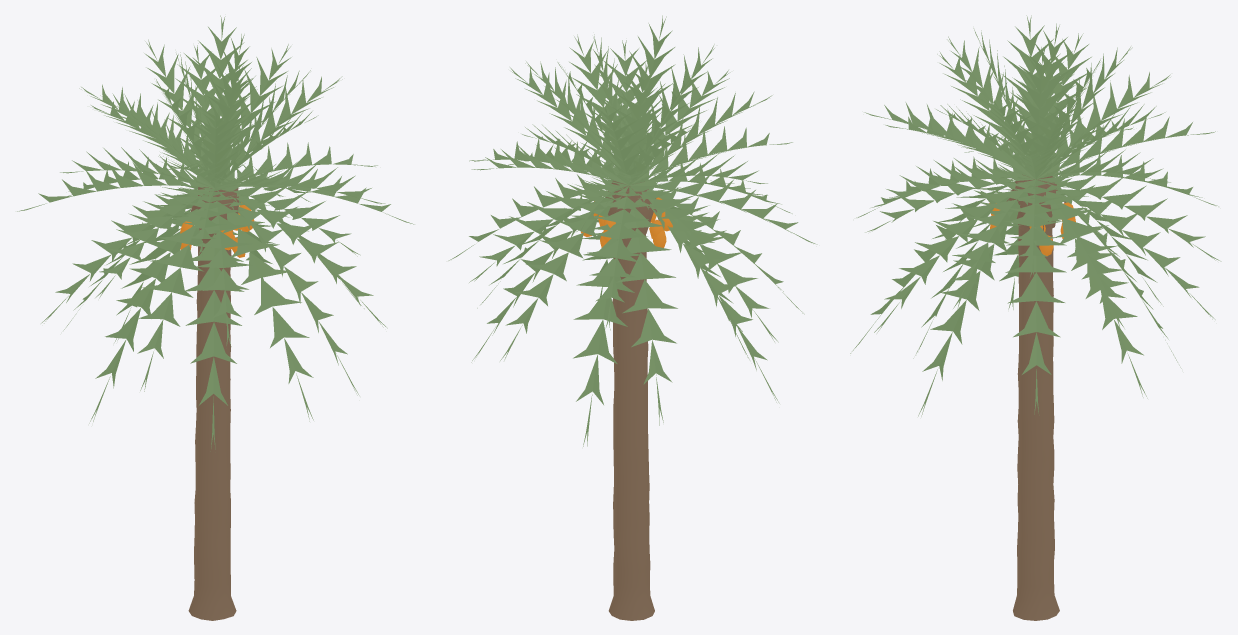
Rendered from Blender_DatePalm_2.glb.
3 views of the same model, side by side, from view 1: azimuth 30°, elevation 25°; view 2: azimuth 150°, elevation 25°; view 3: azimuth 270°, elevation 25° (orthographic). The views are drawn at different scales.
Parts seen in each view (by area): view 1: Blender_DatePalm_2; view 2: Blender_DatePalm_2; view 3: Blender_DatePalm_2.
Part boxes in pixels (x1,y1,x2,y2): Blender_DatePalm_2: [17, 15, 414, 620]; Blender_DatePalm_2: [448, 15, 817, 620]; Blender_DatePalm_2: [850, 15, 1221, 620].
Size of the model in its own units: 7.29 by 12.19 by 7.09.
